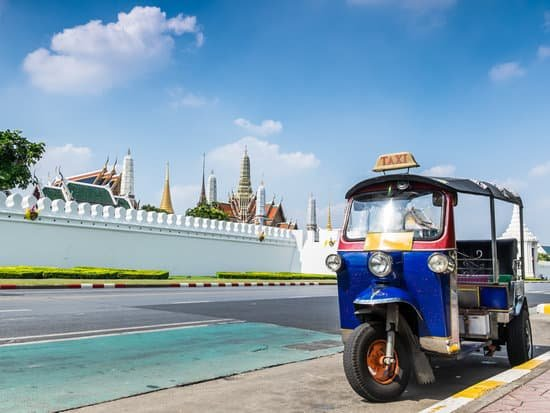threewheel: (325, 150, 533, 403)
